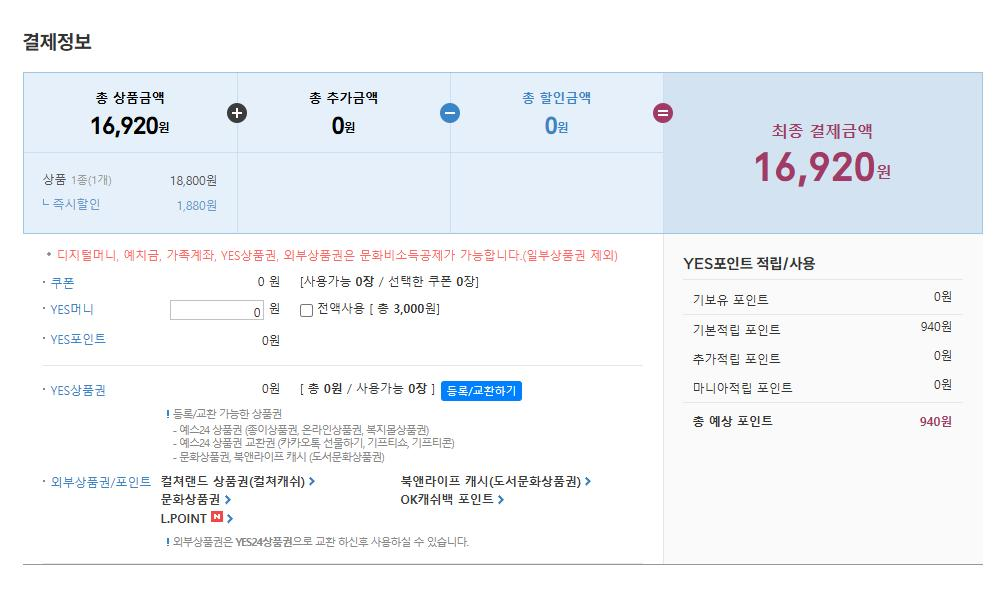button: (399, 466, 598, 489), (151, 473, 324, 492), (441, 376, 528, 408), (401, 490, 512, 513), (150, 509, 245, 531), (154, 488, 234, 510)
checkbox: (294, 295, 451, 328)
